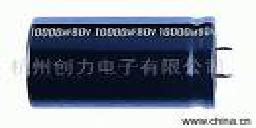Electrolytic-Capacitor: (24, 14, 234, 110)
